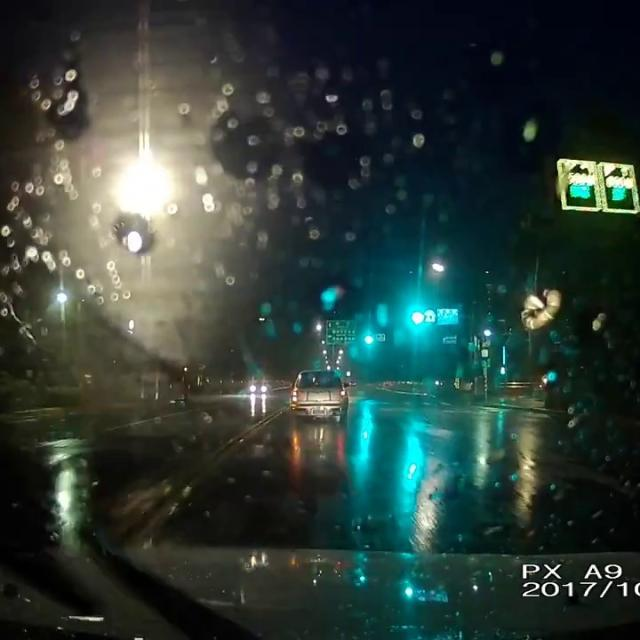Car: (289, 368, 349, 425)
